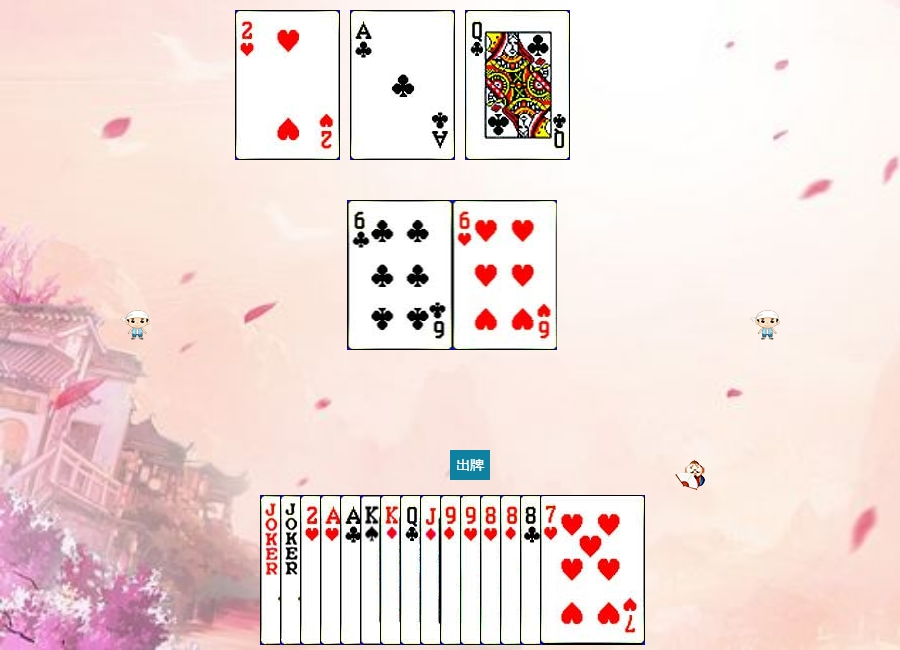11~1: (420, 495, 525, 645)
12~2: (465, 10, 570, 160), (400, 495, 505, 645)
13~1: (380, 495, 485, 645)
13~4: (360, 495, 465, 645)
14~2: (350, 10, 455, 160), (340, 495, 445, 645)
14~3: (320, 495, 425, 645)
15~3: (235, 10, 340, 160), (300, 495, 405, 645)
17~3: (280, 495, 385, 645)
18~4: (260, 495, 365, 645)
6~2: (348, 200, 453, 350)
6~3: (453, 200, 558, 350)
7~3: (540, 495, 645, 645)
8~1: (500, 495, 605, 645)
8~2: (520, 495, 625, 645)
8~3: (480, 495, 585, 645)
9~1: (440, 495, 545, 645)
9~3: (460, 495, 565, 645)
